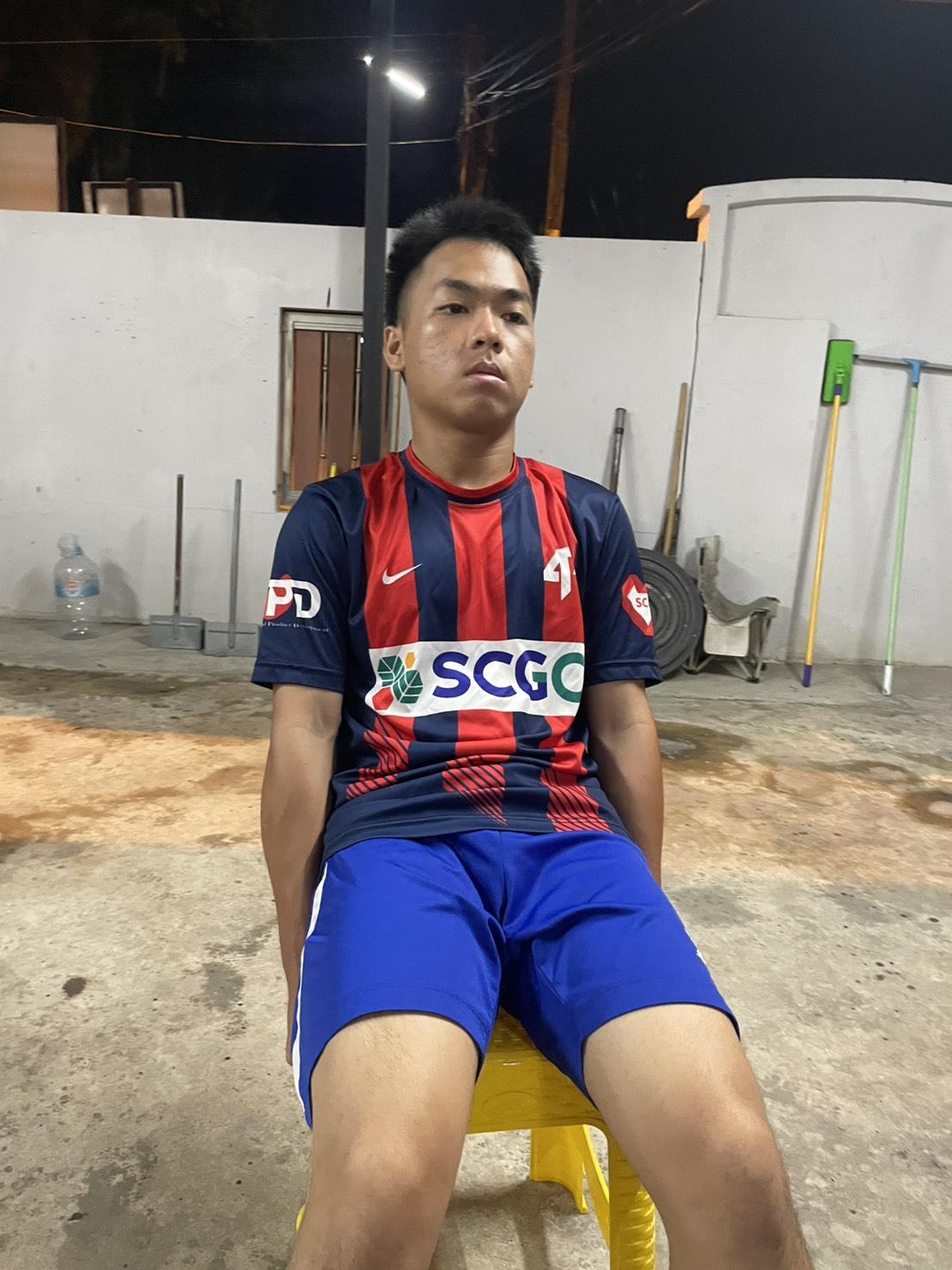BadPosture: (253, 197, 813, 1269), (254, 199, 710, 1003), (254, 199, 662, 893)
